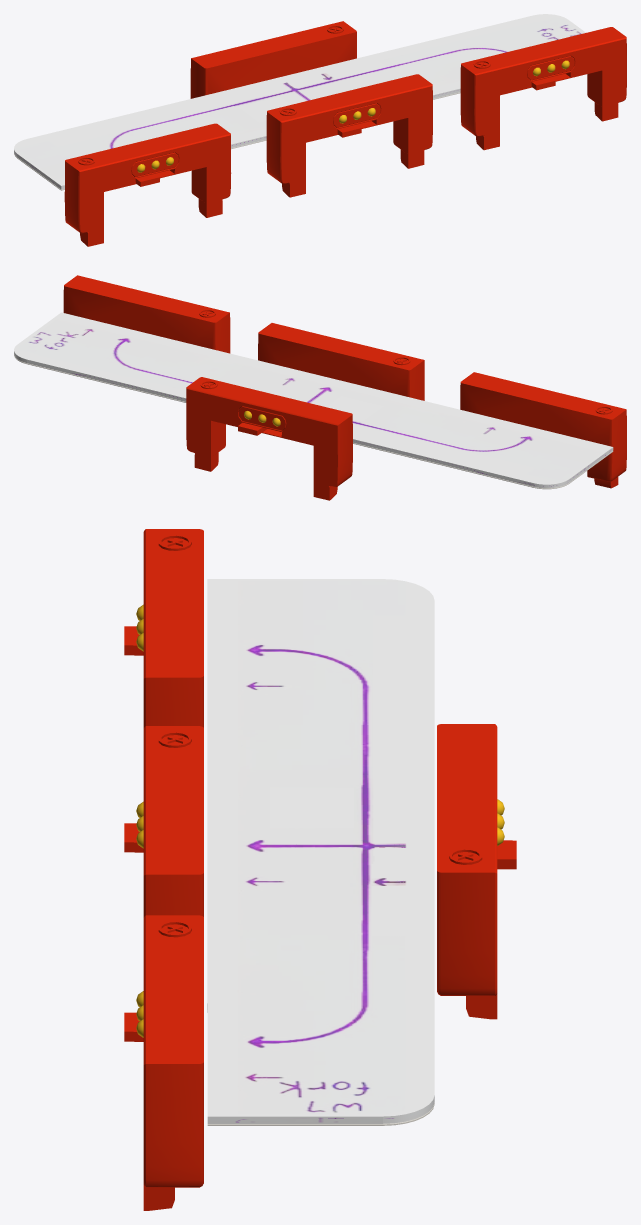
Rendered from littlebit w7 fork.fbx.
3 views of the same model, one above another, from view 1: azimuth 30°, elevation 25°; view 2: azimuth 150°, elevation 25°; view 3: azimuth 270°, elevation 25° (orthographic). The views are drawn at different scales.
Visible parts, largest first — view 1: Rectangle001, Line006, Line004, Line005, Line003; view 2: Rectangle001, Line003, Line005, Line006, Line004, Rectangle002; view 3: Rectangle001, Line003, Line006, Line005, Line004.
Boxes of the visible parts, bbox=[...] form: Rectangle001: bbox=[14, 14, 585, 189]; Line006: bbox=[460, 27, 626, 150]; Line004: bbox=[266, 74, 432, 197]; Line005: bbox=[64, 123, 231, 246]; Line003: bbox=[190, 21, 356, 98]; Rectangle001: bbox=[14, 312, 613, 488]; Line003: bbox=[186, 377, 352, 500]; Line005: bbox=[460, 372, 626, 488]; Line006: bbox=[63, 275, 230, 353]; Line004: bbox=[258, 323, 424, 400]; Rectangle002: bbox=[14, 355, 613, 489]; Rectangle001: bbox=[207, 579, 434, 1123]; Line003: bbox=[437, 724, 516, 1019]; Line006: bbox=[124, 915, 203, 1210]; Line005: bbox=[124, 529, 203, 728]; Line004: bbox=[124, 726, 203, 917].
Size of the model in its own units: 94.58 by 29.15 by 12.97.
